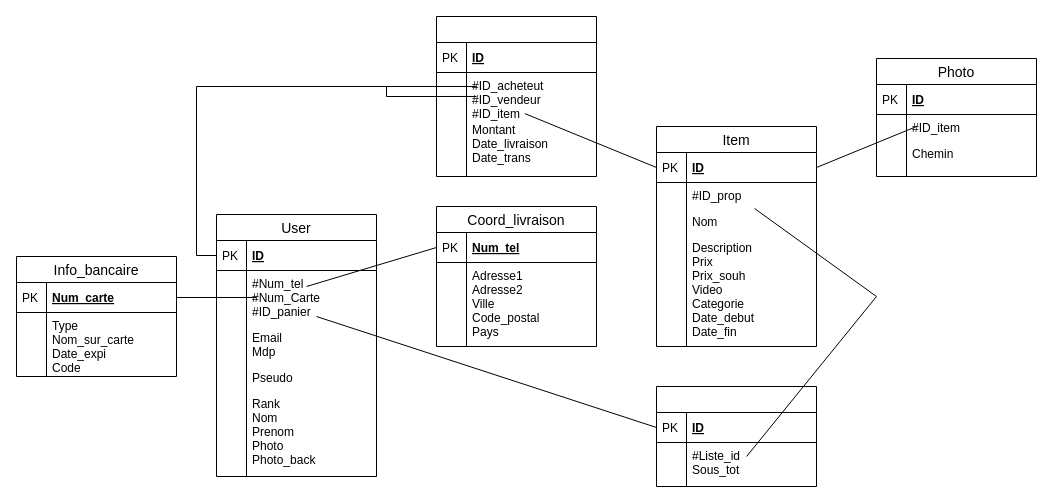
This 1053x503 diagram has some shape labels left out. Here are the shapes that lost their labels. From the top down, the box of each, then its label:
(436, 16, 596, 176): Transaction
(656, 386, 816, 486): Collection
